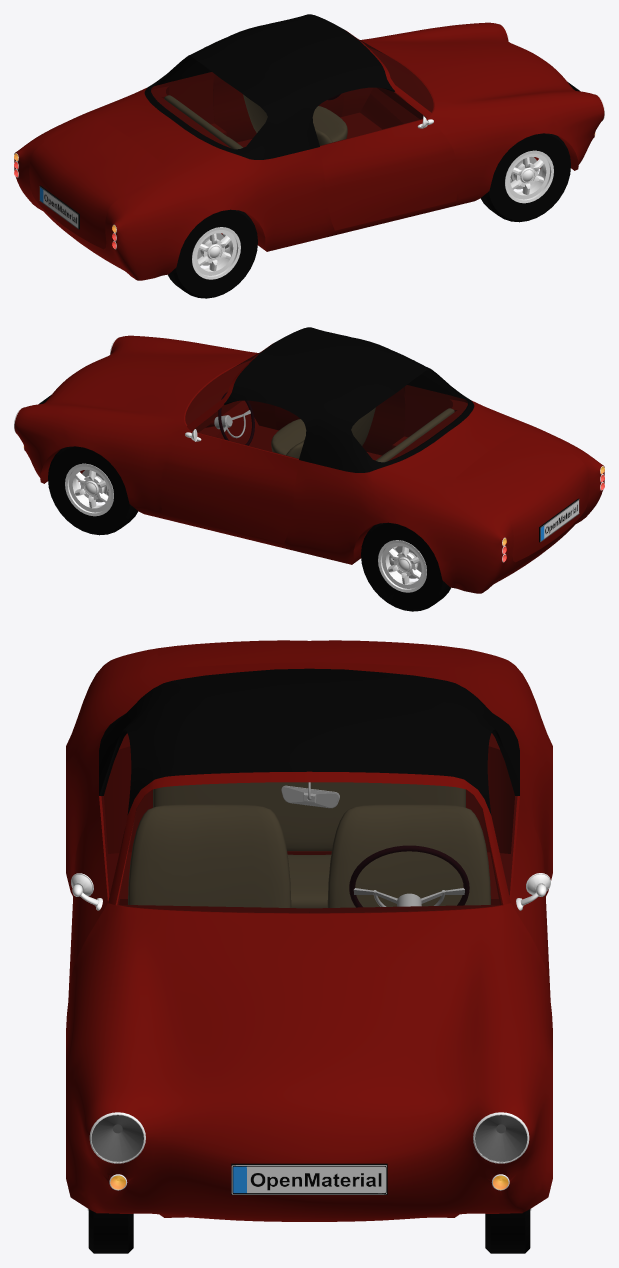
Rendered from vehicle_example.gltf.
3 renders of one model, top to bottom at view 1: azimuth 30°, elevation 25°; view 2: azimuth 150°, elevation 25°; view 3: azimuth 270°, elevation 25°, orthographic. The views are drawn at different scales.
Parts seen in each view (by area): view 1: Body, Roof, Door_FR, Trunk_Lid, Window_R, Window_FR, Tire_FR, Tire_BR, Door_FL, Rim_FR, Rim_BR, Window_F (+4 smaller); view 2: Body, Roof, Door_FL, Trunk_Lid, Window_R, Window_FL, Tire_FL, Tire_BL, Door_FR, Rim_FL, Rim_BL, Window_F (+4 smaller); view 3: Body, Window_F, Roof, FrontSeat_Backrest_R, FrontSeat_Backrest_L, RearSeat_Backrest, Trunk_Lid, Number_Plate_F, Door_FL, Door_FR, Window_FR, Window_FL (+10 smaller).
Boxes of the visible parts, left/top/right/bottom form: Body: left=14, top=22, right=604, bottom=280; Roof: left=144, top=14, right=394, bottom=159; Door_FR: left=320, top=118, right=458, bottom=230; Trunk_Lid: left=29, top=118, right=166, bottom=249; Window_R: left=150, top=56, right=267, bottom=148; Window_FR: left=313, top=88, right=425, bottom=145; Tire_FR: left=480, top=133, right=570, bottom=222; Tire_BR: left=168, top=209, right=257, bottom=298; Door_FL: left=213, top=75, right=343, bottom=142; Rim_FR: left=505, top=150, right=553, bottom=203; Rim_BR: left=192, top=227, right=240, bottom=279; Window_F: left=358, top=39, right=433, bottom=112; Body: left=14, top=335, right=604, bottom=593; Roof: left=224, top=327, right=474, bottom=472; Door_FL: left=160, top=431, right=298, bottom=543; Trunk_Lid: left=452, top=431, right=589, bottom=562; Window_R: left=351, top=369, right=468, bottom=461; Window_FL: left=193, top=401, right=305, bottom=458; Tire_FL: left=48, top=446, right=138, bottom=535; Tire_BL: left=361, top=522, right=450, bottom=611; Door_FR: left=275, top=388, right=405, bottom=455; Rim_FL: left=65, top=463, right=113, bottom=516; Rim_BL: left=378, top=540, right=426, bottom=592; Window_F: left=185, top=352, right=260, bottom=425; Body: left=66, top=648, right=552, bottom=1221; Window_F: left=117, top=782, right=501, bottom=913; Roof: left=99, top=668, right=519, bottom=814; FrontSeat_Backrest_R: left=128, top=804, right=291, bottom=907; FrontSeat_Backrest_L: left=327, top=804, right=490, bottom=907; RearSeat_Backrest: left=153, top=782, right=465, bottom=851; Trunk_Lid: left=157, top=640, right=461, bottom=667; Number_Plate_F: left=231, top=1163, right=387, bottom=1194; Door_FL: left=508, top=796, right=550, bottom=998; Door_FR: left=68, top=796, right=110, bottom=998; Window_FR: left=101, top=730, right=130, bottom=895; Window_FL: left=488, top=730, right=517, bottom=894.
Bounding box in the file's own units: 3.85 × 1.3 × 1.62.
Materials: 14 (1 with a texture image).
